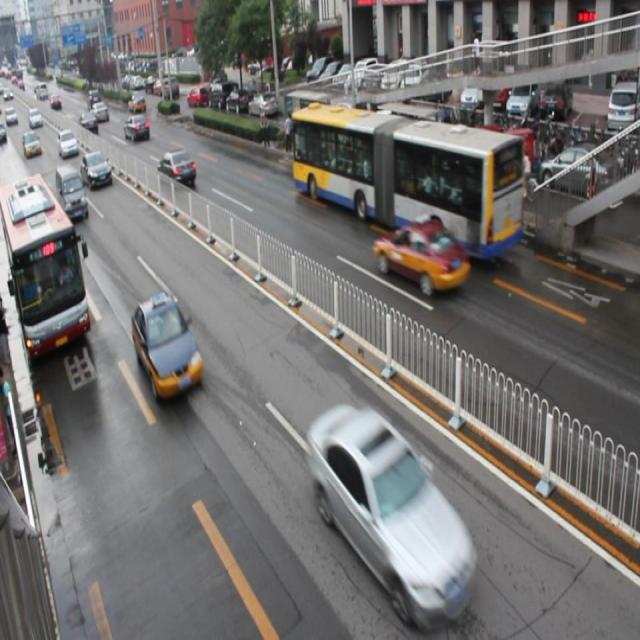car: (309, 406, 479, 624), (132, 291, 202, 401), (372, 216, 470, 294), (156, 148, 196, 187), (79, 151, 113, 192), (124, 114, 150, 142)
truck: (56, 163, 89, 221)
van: (290, 101, 524, 260), (0, 176, 90, 360)
